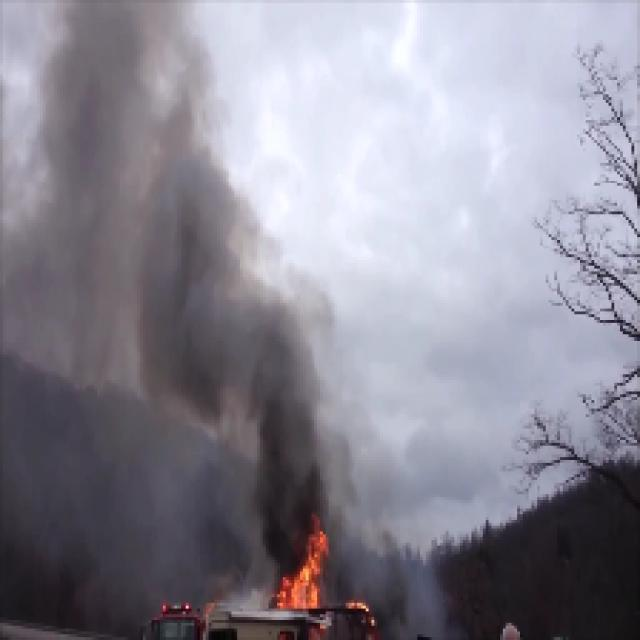smoke: (148, 252, 262, 414), (263, 374, 323, 520), (287, 540, 323, 607)
